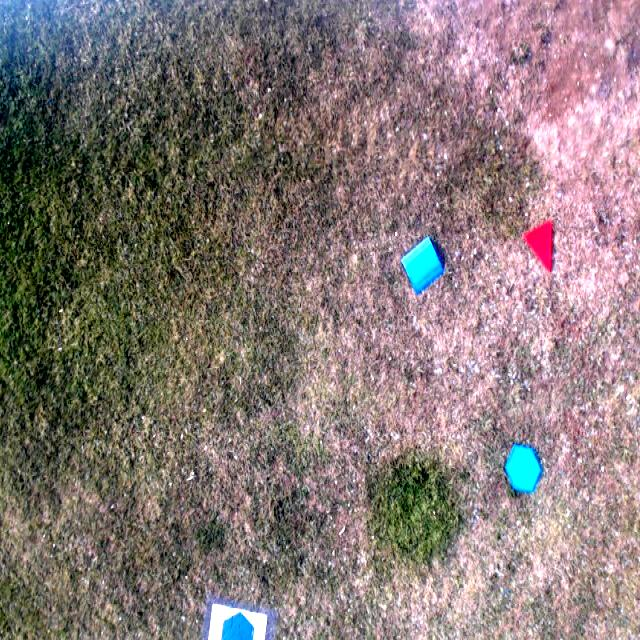blue_hexagon: (504, 443, 543, 498)
blue_square: (400, 238, 445, 296)
red_triangle: (524, 218, 552, 276)
